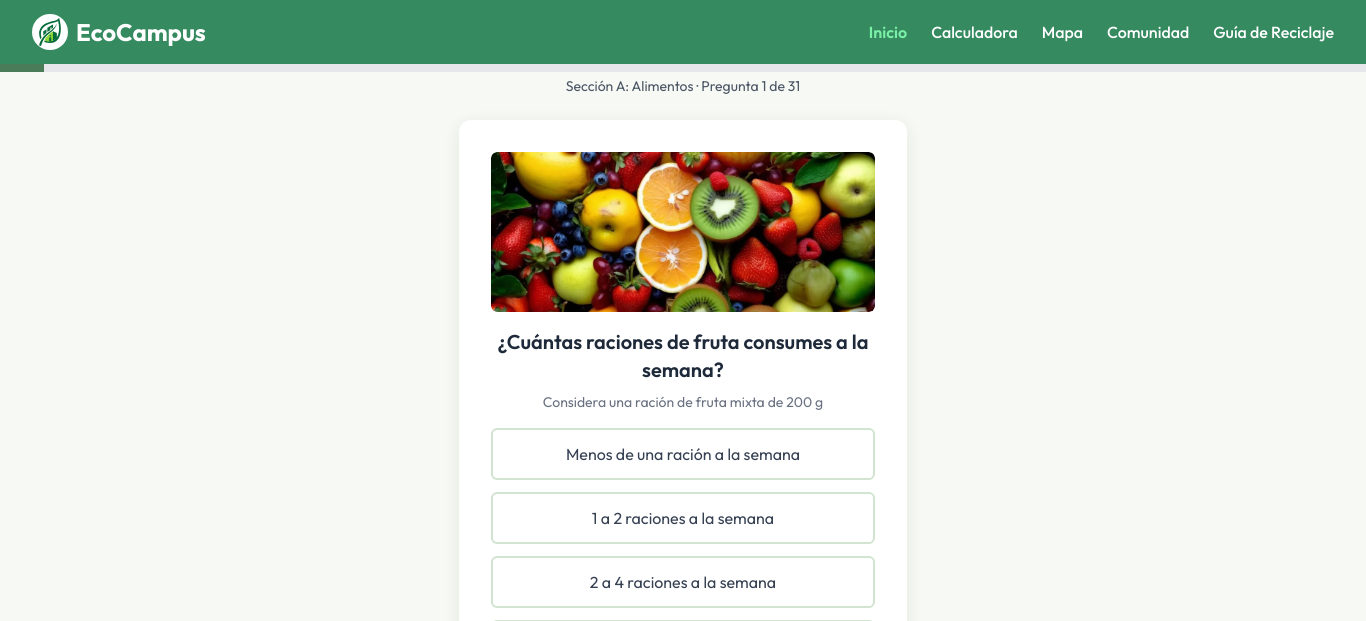
Calculadora › la opcion nula (valor 0) habilita Siguiente
This screenshot has width=1366, height=621.
What coordinates should you click on to do the following:
click the button "1 a 2 raciones a la semana"
I would click on:
 (683, 518)
Its box is x1=491 y1=492 x2=875 y2=544.
(page scrolled)
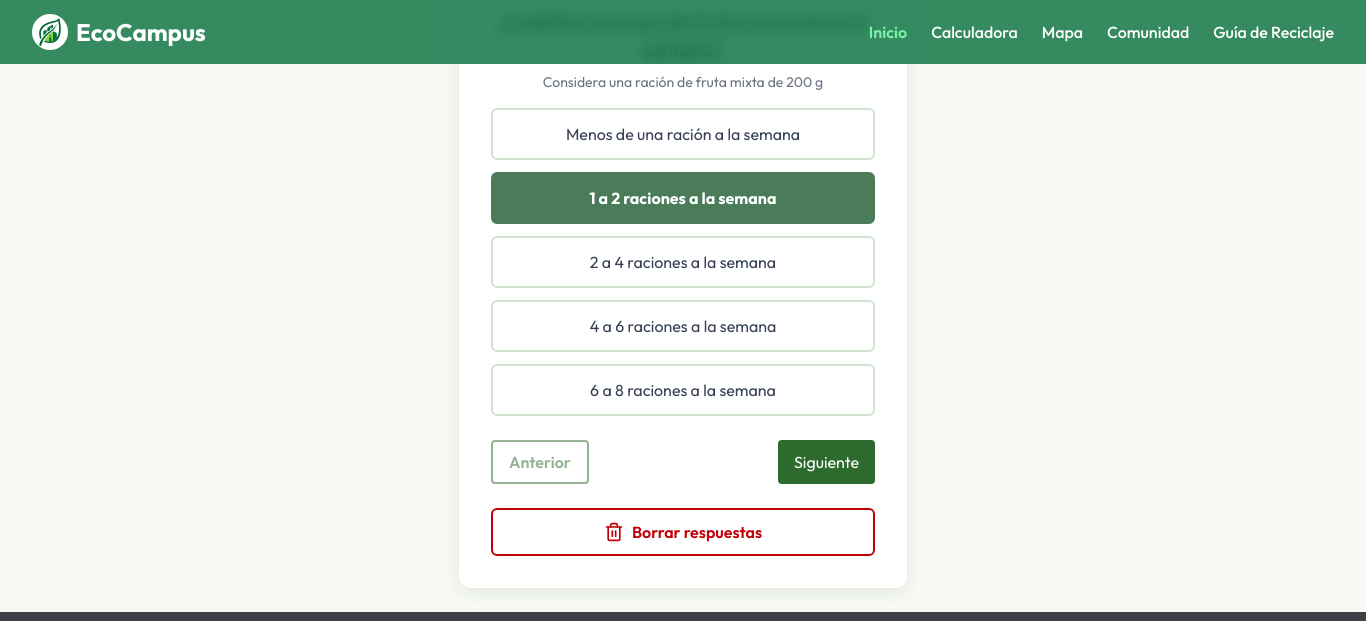
What coordinates should you click on to do the following:
click the button "Siguiente"
I would click on:
 (826, 462)
Its box is x1=778 y1=440 x2=875 y2=484.
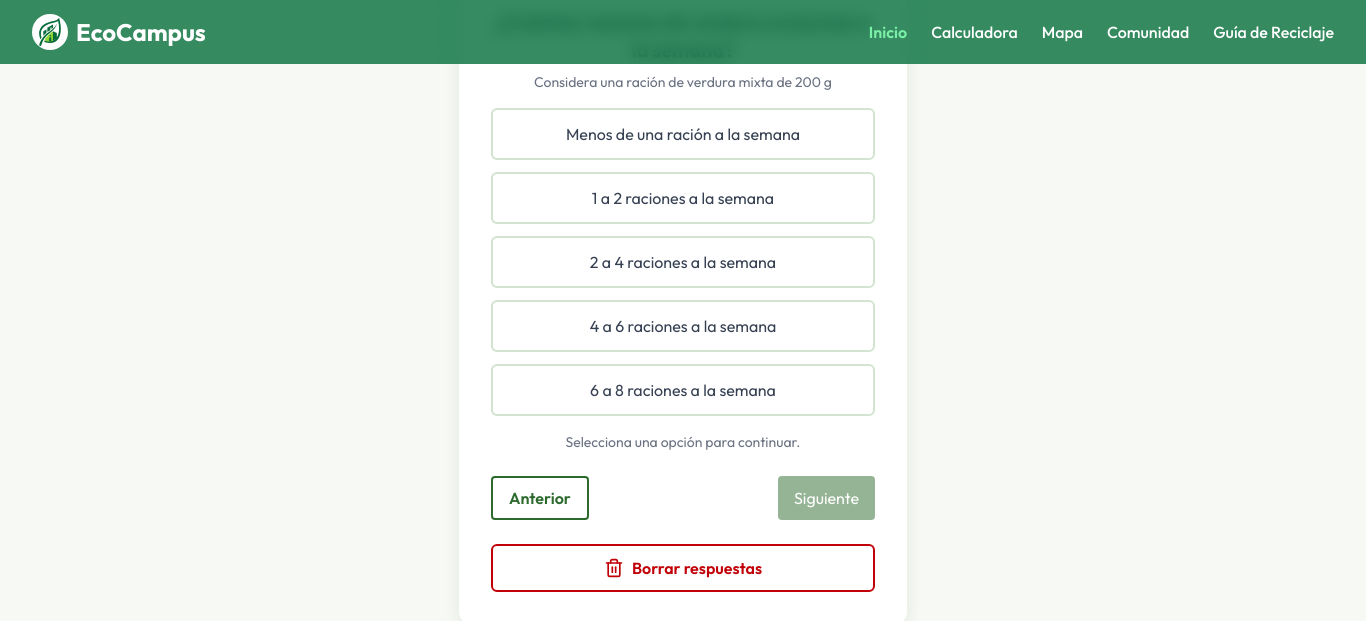
What coordinates should you click on to do the following:
click the button "1 a 2 raciones a la semana"
I would click on:
 (683, 198)
Its box is x1=491 y1=172 x2=875 y2=224.
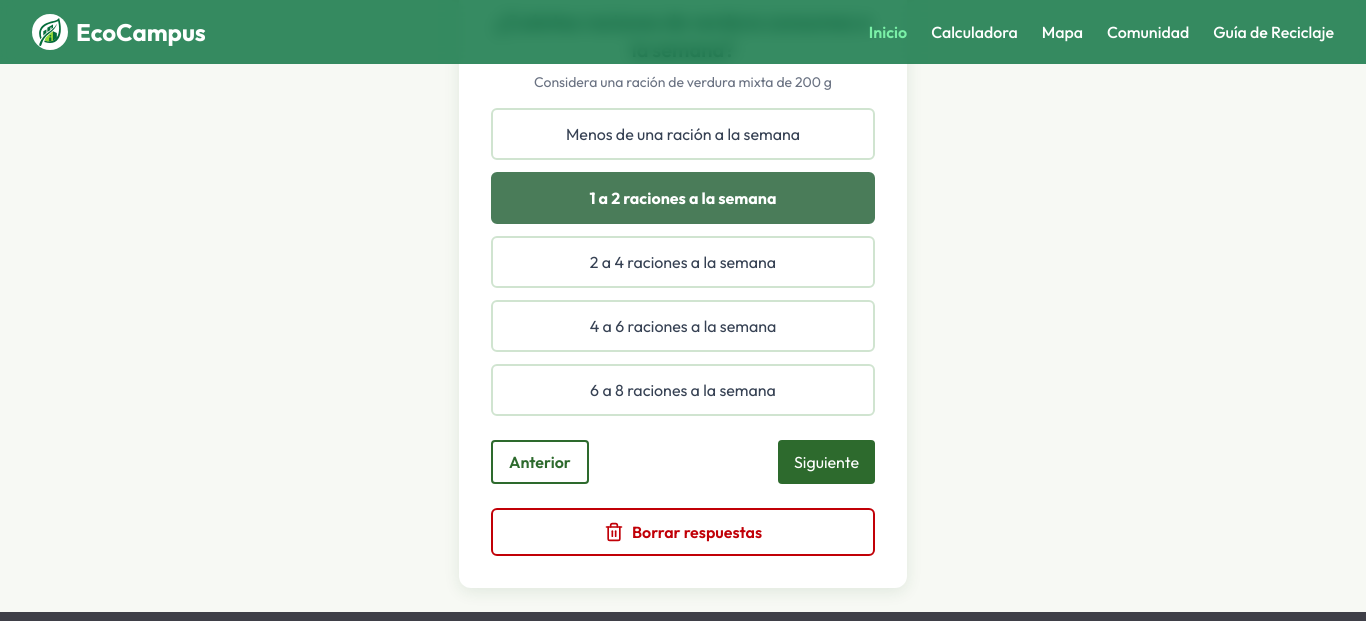
What coordinates should you click on to do the following:
click the button "Siguiente"
I would click on:
 (826, 462)
Its box is x1=778 y1=440 x2=875 y2=484.
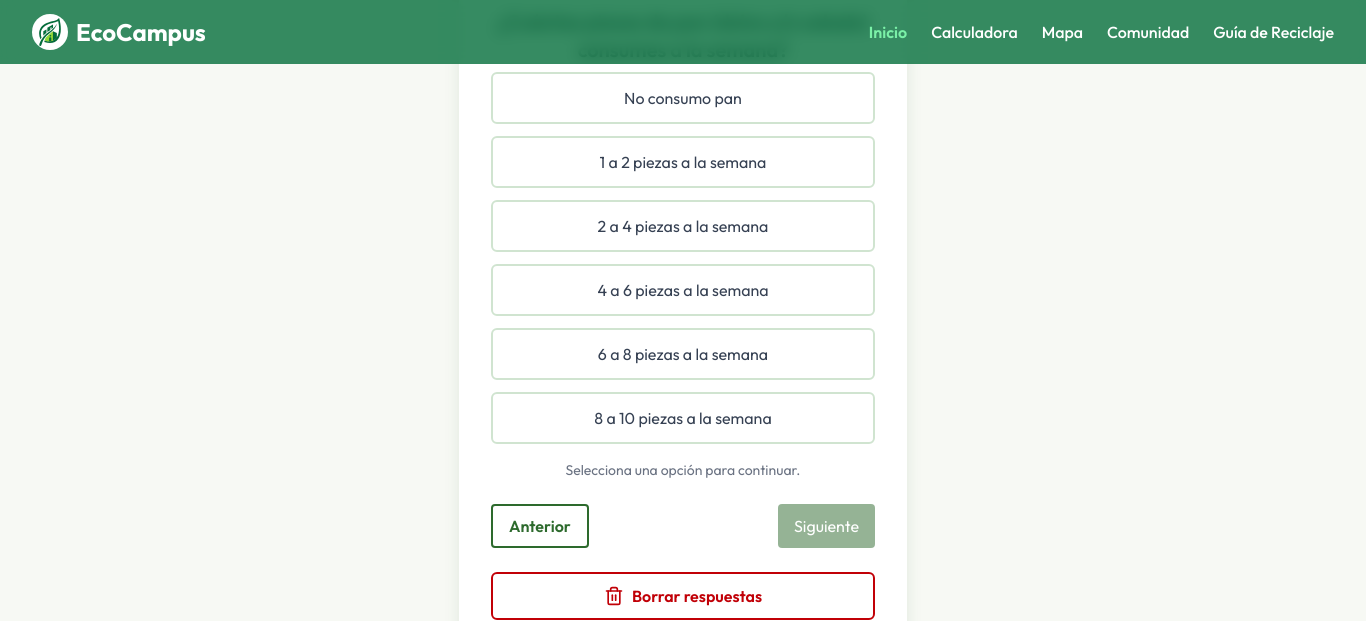
Check: the button "Siguiente" is disabled, box x1=778 y1=504 x2=875 y2=548
What coordinates should you click on to do the following:
click the button "No consumo pan"
I would click on:
 (683, 98)
Its box is x1=491 y1=72 x2=875 y2=124.
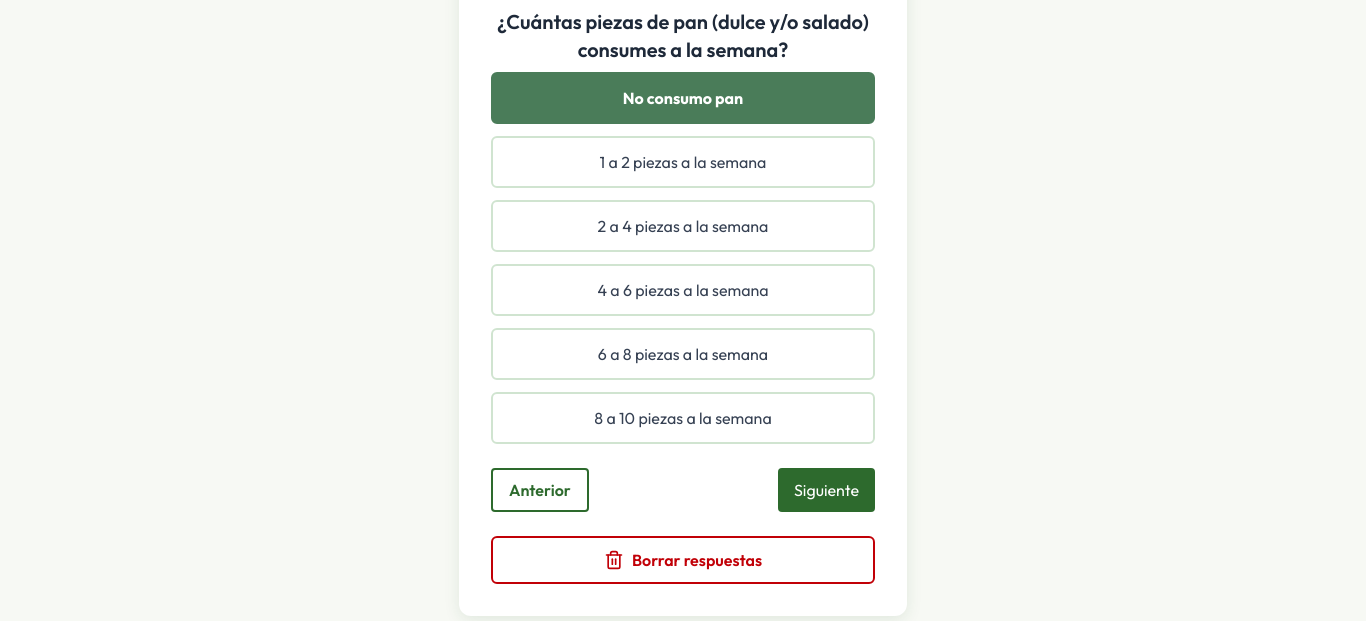
Check: the button "Siguiente" is enabled, box x1=778 y1=468 x2=875 y2=512
